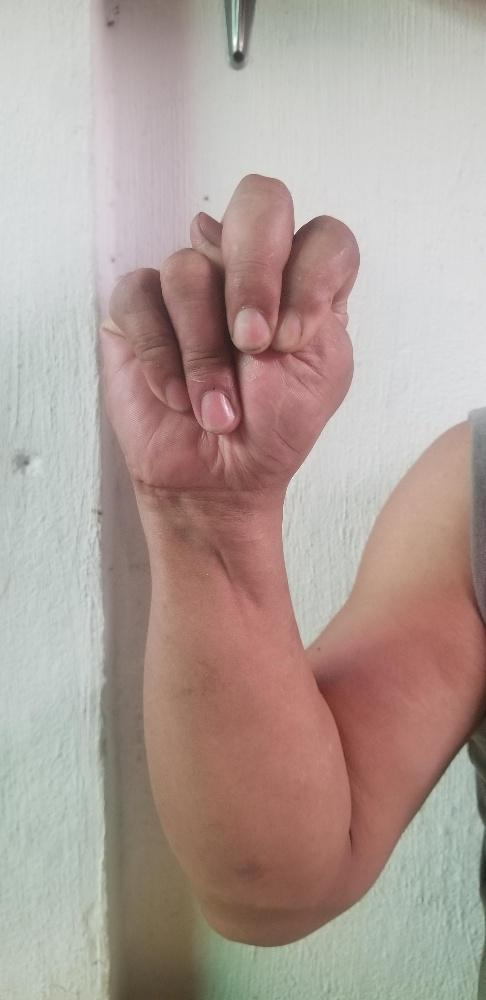n: (96, 171, 360, 484)
